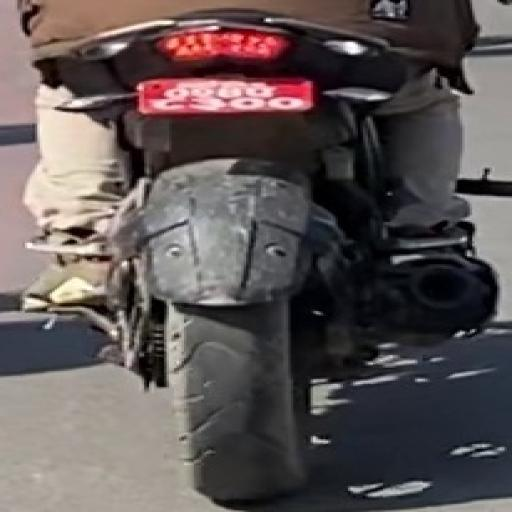license_plate: (132, 74, 321, 120)
